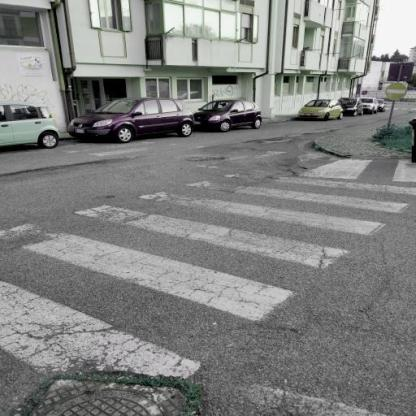crosswalk: (62, 183, 392, 273)
